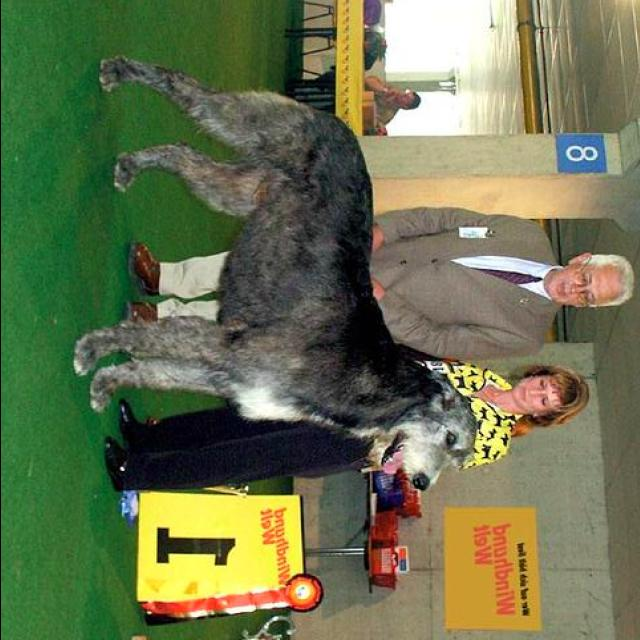irish_wolfhound: (68, 55, 480, 493)
